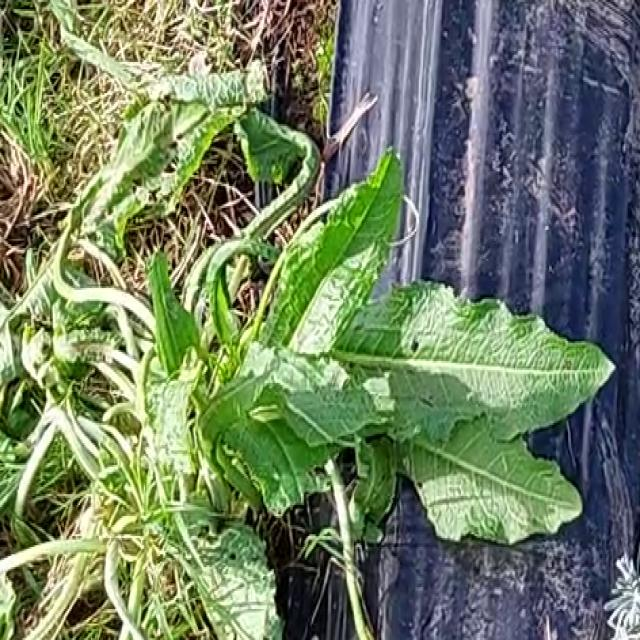organic waste: (0, 68, 633, 614)
